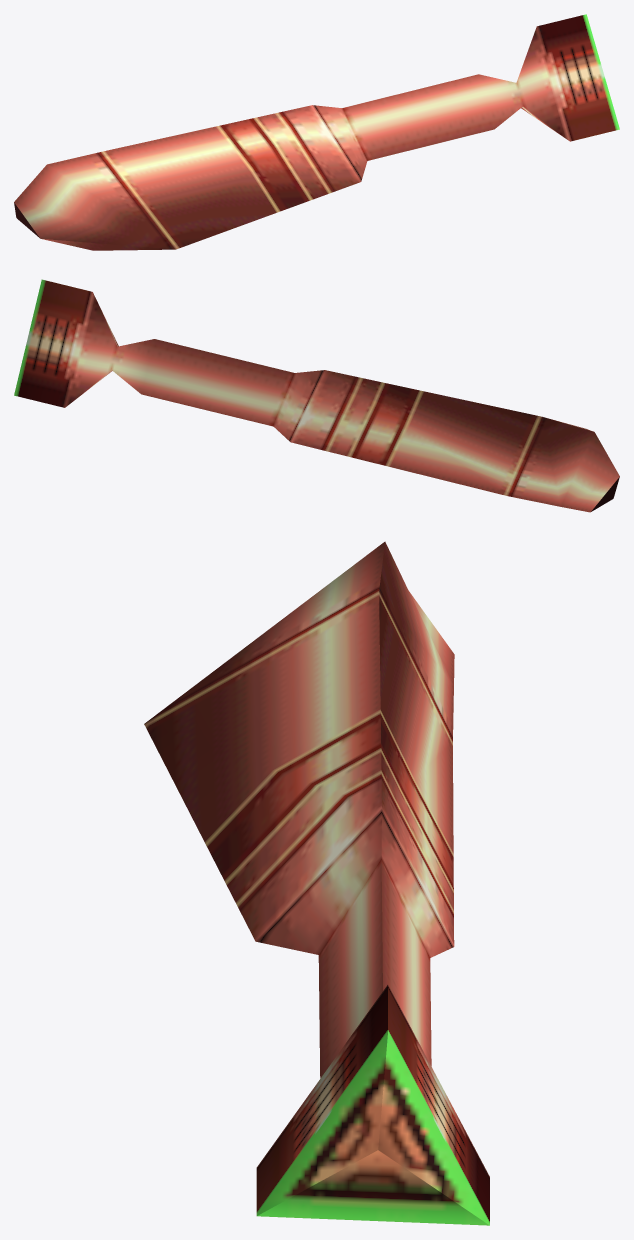
The picture shows the model from 3 angles, top to bottom: view 1: azimuth 30°, elevation 25°; view 2: azimuth 150°, elevation 25°; view 3: azimuth 270°, elevation 25°; orthographic projection. The views are drawn at different scales.
Parts seen in each view (by area): view 1: BW206; view 2: BW206; view 3: BW206.
Boxes of the visible parts, <box> form: BW206: <box>14,14,619,250</box>; BW206: <box>14,279,619,512</box>; BW206: <box>144,541,489,1225</box>.
Bounding box in the file's own units: 14.28 × 2.28 × 3.75.
Materials: 1 (1 with a texture image).
